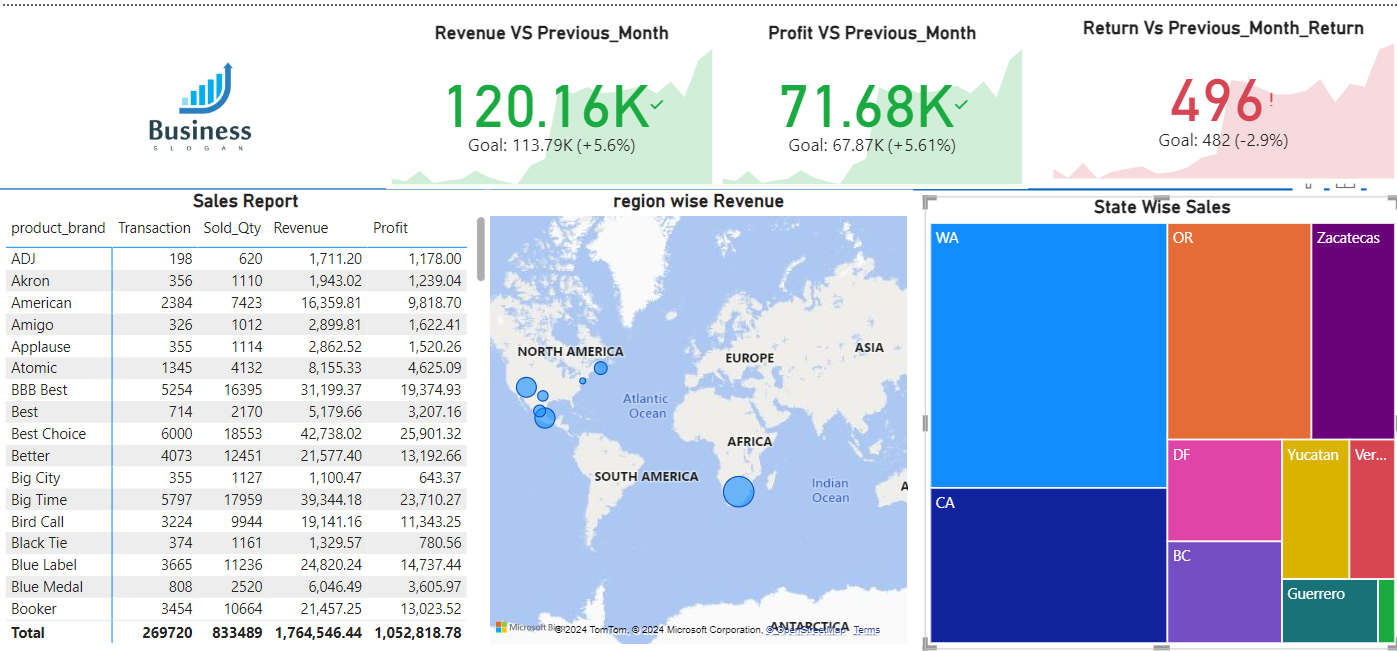

The page's visual inventory and layout, read from the dashboard file:
{"tool":"powerbi","page":{"name":"Sales Report","canvas":[1280,720],"ordinal":1},"visuals":[{"type":"image","box":[0,0,370,152.5],"z":0},{"type":"shape","box":[0,162,1590,12],"z":1000},{"type":"pivotTable","title":"Sales Report","fields":{"Rows":["d_Products.product_brand"],"Values":["Measures (2).M_Total_Transaction","Measures (2).M_Sold_Quantity","Measures (2).M_Total_Revenue","Measures (2).M_Total_Profit"]},"box":[0,168,450,390],"z":2000},{"type":"shape","box":[443,168,14,390],"z":3000},{"type":"map","title":"region wise Revenue ","fields":{"Category":["d_Regions.sales_region"],"Size":["Measures (2).M_Total_Revenue"]},"box":[450,174,382,384],"z":4000},{"type":"treemap","title":"State Wise Sales","fields":{"Group":["d_Stores.store_state"],"Values":["Measures (2).M_Total_Transaction"]},"box":[820,173.8,440,383.8],"z":5000},{"type":"kpi","title":"Revenue VS Previous_Month","fields":{"Indicator":["Measures (2).M_Total_Revenue"],"TrendLine":["d_Calendar.Start of Month"],"Goal":["Measures (2).M_Previous_Month_Revenu"]},"box":[370,0,286.2,152.5],"z":6000},{"type":"kpi","title":"Profit VS Previous_Month","fields":{"TrendLine":["d_Calendar.Start of Month"],"Goal":["Measures (2).M_Previous_Month_Profit"],"Indicator":["Measures (2).M_Total_Profit"]},"box":[656.2,0,271.2,152.5],"z":7000},{"type":"kpi","title":"Return Vs Previous_Month_Return","fields":{"Indicator":["Measures (2).M_Total_Return"],"TrendLine":["d_Calendar.Start of Month"],"Goal":["Measures (2).M_Previous_Month_Return"]},"box":[958.8,0,248.8,152.5],"z":8000}]}

Visuals, with their boxes on the page's 1280x720 design canvas (x1, y1, x2, y2). These are canvas units, not pixel positions in the 1397x651 screenshot, which may show the page scaled, cropped or inside an application window:
image: crop(0, 0, 370, 152)
shape: crop(0, 162, 1590, 174)
"Sales Report" pivotTable: crop(0, 168, 450, 558)
shape: crop(443, 168, 457, 558)
"region wise Revenue " map: crop(450, 174, 832, 558)
"State Wise Sales" treemap: crop(820, 174, 1260, 558)
"Revenue VS Previous_Month" kpi: crop(370, 0, 656, 152)
"Profit VS Previous_Month" kpi: crop(656, 0, 927, 152)
"Return Vs Previous_Month_Return" kpi: crop(959, 0, 1208, 152)
